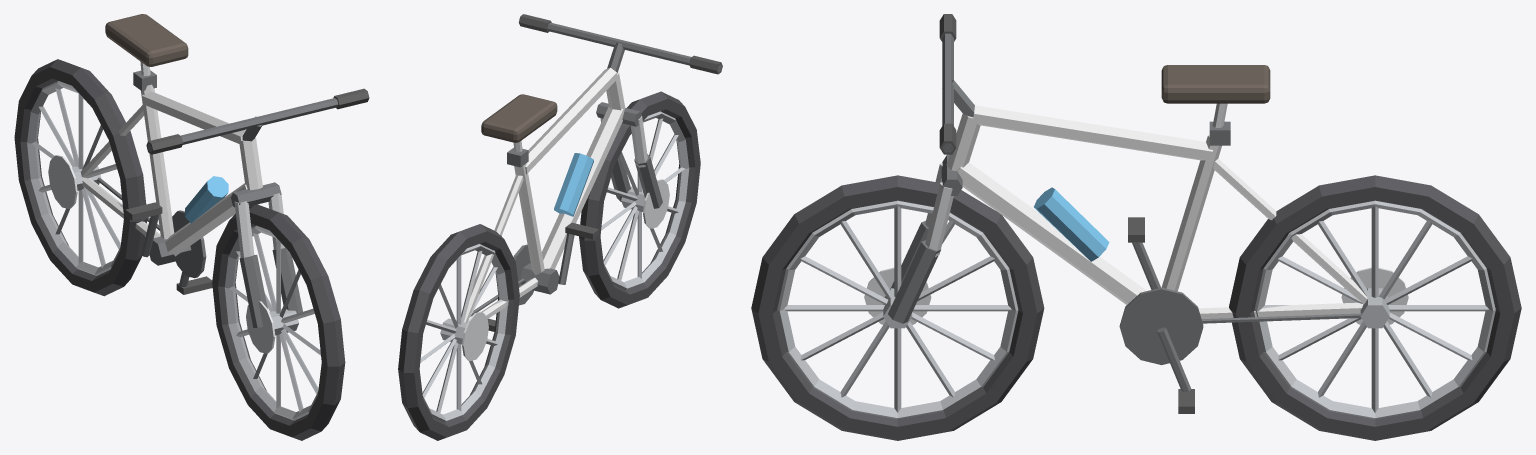
File: bike-mtb.glb
3 renders of one model, left to right at view 1: azimuth 30°, elevation 25°; view 2: azimuth 150°, elevation 25°; view 3: azimuth 270°, elevation 25°, orthographic. The views are drawn at different scales.
Visible parts, largest first — view 1: wheel-back, wheel-front, body, steer, seat, detach_bottle, detach_seatclamp; view 2: wheel-back, wheel-front, body, steer, seat, detach_bottle, detach_seatclamp; view 3: wheel-back, wheel-front, body, steer, seat, detach_bottle.
Boxes of the visible parts, x1,y1,x2,y2 form: wheel-back: [14, 59, 147, 296]; wheel-front: [212, 204, 345, 440]; body: [80, 61, 262, 294]; steer: [146, 88, 369, 327]; seat: [105, 14, 188, 66]; detach_bottle: [185, 176, 228, 223]; detach_seatclamp: [133, 70, 156, 91]; wheel-back: [398, 224, 519, 440]; wheel-front: [579, 91, 700, 308]; body: [464, 67, 625, 331]; steer: [518, 14, 722, 208]; seat: [481, 94, 557, 142]; detach_bottle: [554, 153, 593, 216]; detach_seatclamp: [507, 147, 528, 167]; wheel-back: [1229, 175, 1521, 440]; wheel-front: [751, 175, 1044, 440]; body: [946, 103, 1367, 413]; steer: [888, 14, 974, 323]; seat: [1161, 65, 1270, 103]; detach_bottle: [1034, 187, 1109, 261].
Bounding box in the file's own units: 0.72 × 0.965 × 1.84.
